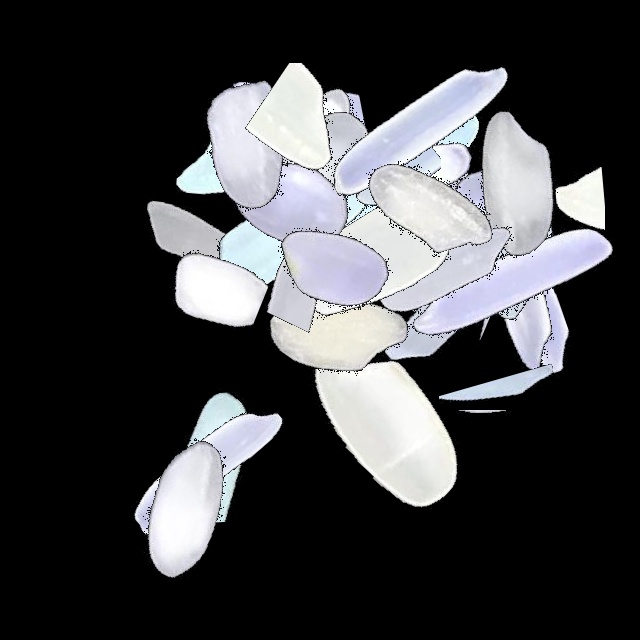Broken: (213, 59, 463, 229), (274, 85, 440, 335), (119, 315, 285, 565), (475, 137, 640, 387), (58, 194, 308, 359), (302, 172, 457, 422), (374, 73, 517, 323), (176, 81, 426, 214), (247, 137, 377, 387), (196, 63, 446, 183), (439, 313, 553, 563), (328, 53, 441, 303), (390, 62, 491, 312), (510, 83, 605, 333), (255, 55, 349, 305), (397, 180, 491, 430), (391, 47, 482, 297), (388, 410, 638, 497), (253, 40, 339, 290), (251, 69, 335, 319), (206, 161, 456, 244), (307, 0, 384, 250)
Full: (390, 146, 640, 396), (331, 164, 581, 414), (260, 297, 510, 547), (210, 36, 460, 286), (247, 56, 497, 306), (390, 132, 640, 382), (306, 54, 556, 304), (83, 121, 333, 371), (208, 42, 458, 292), (172, 28, 422, 278), (272, 59, 522, 309), (166, 52, 416, 302), (318, 186, 568, 436), (390, 157, 640, 407), (231, 45, 481, 295), (160, 107, 410, 357), (210, 206, 460, 456), (145, 32, 395, 282), (387, 57, 637, 307), (319, 145, 569, 395), (191, 51, 441, 301), (80, 343, 330, 593), (167, 79, 417, 329), (294, 0, 544, 250), (305, 79, 555, 329), (124, 21, 374, 271), (206, 142, 456, 392), (60, 382, 310, 632)
